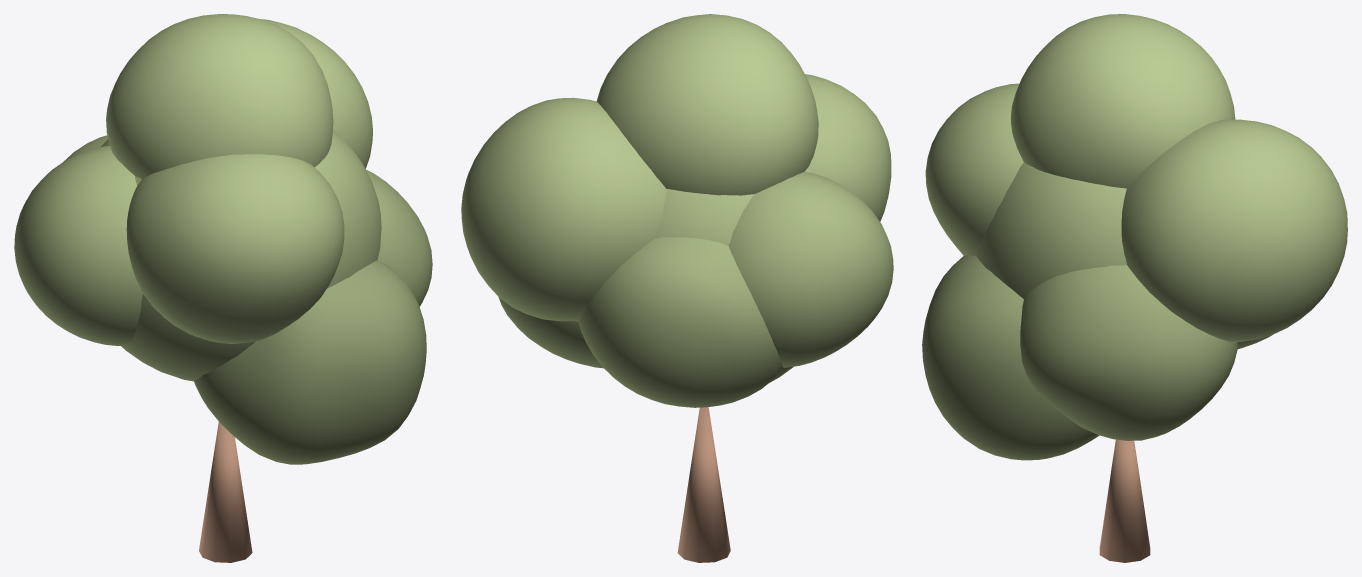
The model's file is tree_b_spring.glb.
3 views of the same model, side by side, from view 1: azimuth 30°, elevation 25°; view 2: azimuth 150°, elevation 25°; view 3: azimuth 270°, elevation 25° (orthographic).
Parts seen in each view (by area): view 1: crown, trunk; view 2: crown, trunk; view 3: crown, trunk.
Boxes of the visible parts, left/top/right/bottom form: crown: left=14, top=14, right=432, bottom=464; trunk: left=199, top=421, right=252, bottom=562; crown: left=461, top=14, right=893, bottom=407; trunk: left=677, top=407, right=730, bottom=562; crown: left=922, top=14, right=1347, bottom=460; trunk: left=1099, top=439, right=1150, bottom=562.
Size of the model in its own units: 5.88 by 7.87 by 5.79.
